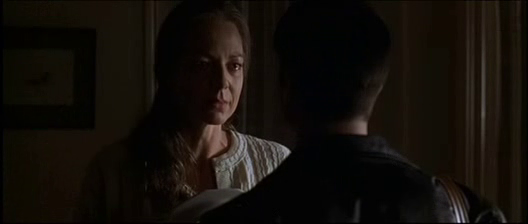cu: (1, 1, 528, 224)
face: (186, 42, 246, 124)
ots: (192, 1, 507, 224)
person: (71, 1, 291, 224)
